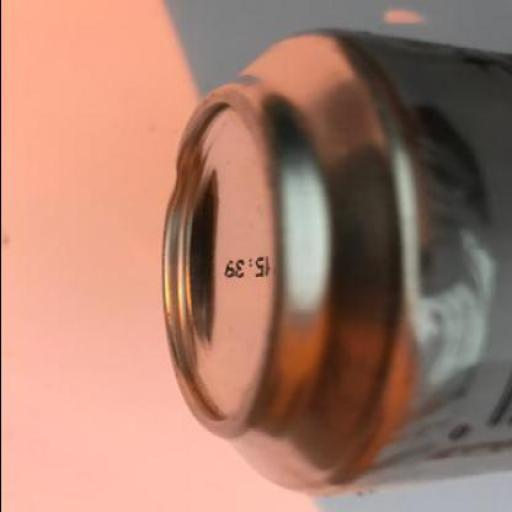metal: (159, 29, 511, 498)
